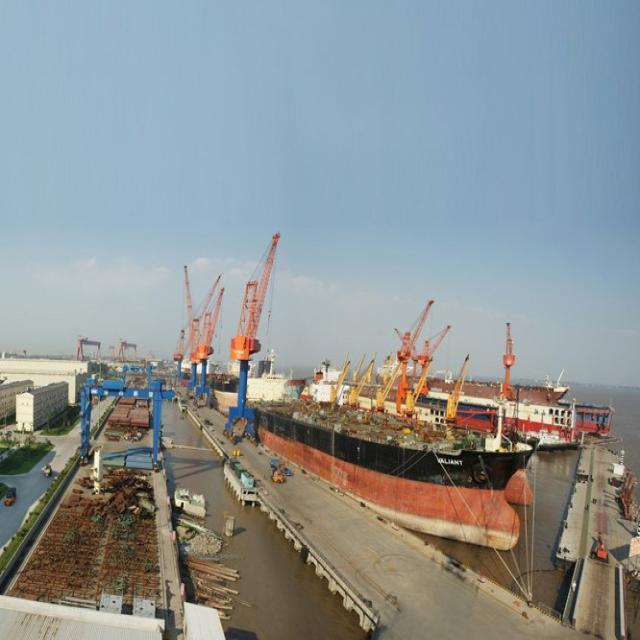cargoship: (248, 383, 533, 562)
